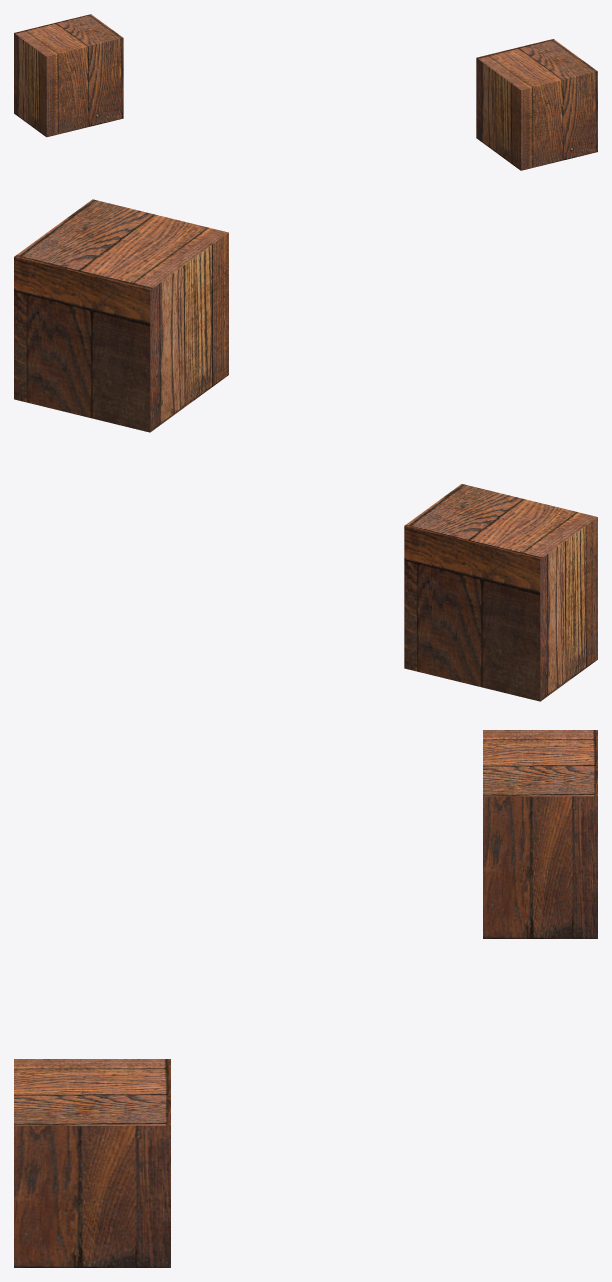
The model's file is shadow_test.fbx.
The picture shows the model from 3 angles, top to bottom: view 1: azimuth 30°, elevation 25°; view 2: azimuth 150°, elevation 25°; view 3: azimuth 270°, elevation 25°; orthographic projection. The views are drawn at different scales.
Parts seen in each view (by area): view 1: pCube2, pCube1; view 2: pCube2, pCube1; view 3: pCube2, pCube1.
Boxes of the visible parts, left/top/right/bottom form: pCube2: left=476, top=39, right=597, bottom=170; pCube1: left=14, top=14, right=123, bottom=137; pCube2: left=14, top=199, right=228, bottom=432; pCube1: left=404, top=484, right=597, bottom=701; pCube2: left=14, top=1059, right=170, bottom=1267; pCube1: left=483, top=730, right=597, bottom=938.
Size of what is drawn, in the model's own units: 5.43 by 1.24 by 3.72.
1 material, 1 textured.
